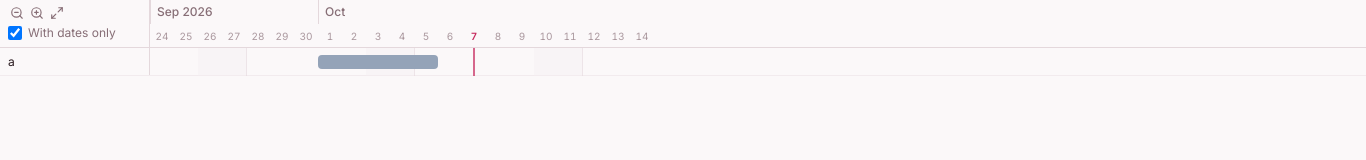
Test: on the timeline › offers the way back only once a zoom has been chosen, and takes it
The image size is (1366, 160).
Expected: the button "Reset zoom" is not shown
Click the button named "Zoom out".
click(17, 13)  # box [8, 4, 26, 22]
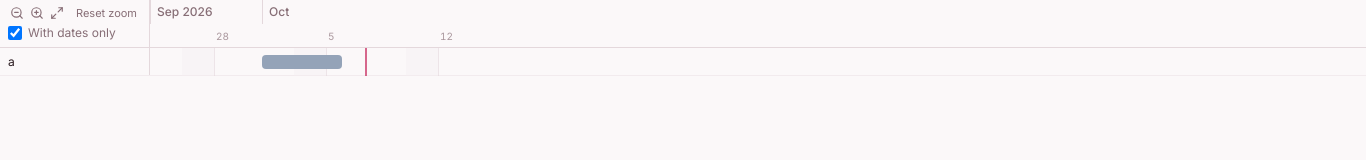
Click the button "Reset zoom".
click(106, 13)  # box [72, 5, 141, 21]
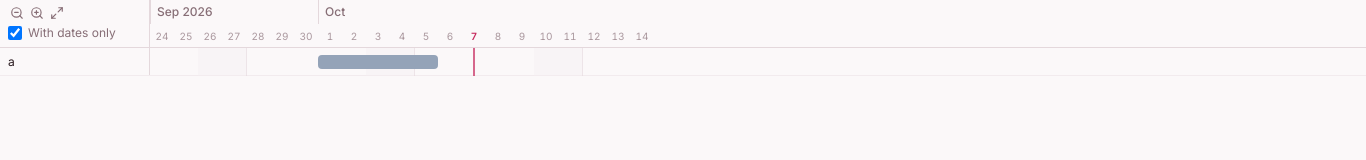
Expected: the button "Reset zoom" is gone
